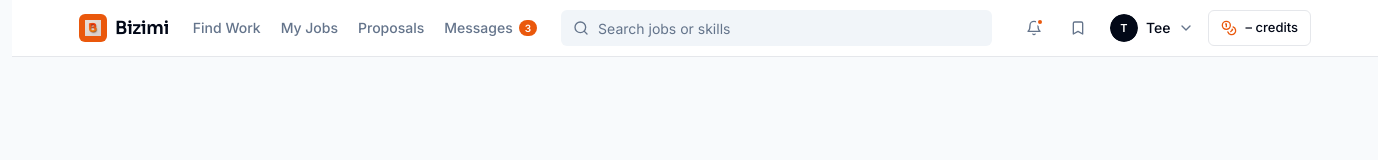
Test: PortalLayout / MarketplaceHeader › sends a header search to the role's search page with ?q=
Type "flutter dev" into the search field labelled "Search jobs".
click(777, 28); type("flutter dev")  # box [561,10,992,46]
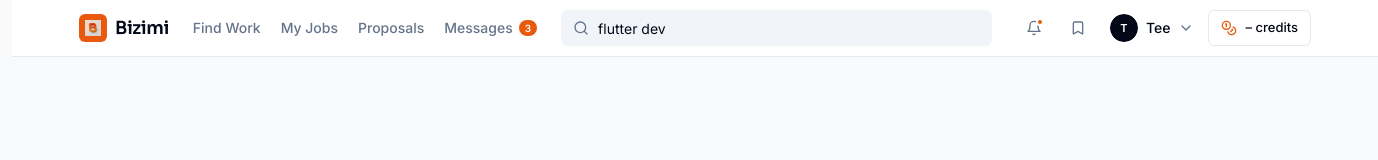
Submit the form named "Search jobs", box [561,10,992,46]
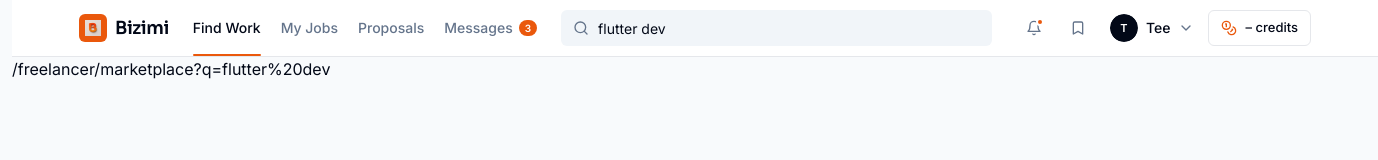
Expected: the text with test id "where" reads "/freelancer/marketplace?q=flutter%20dev", [12,59,330,79]
